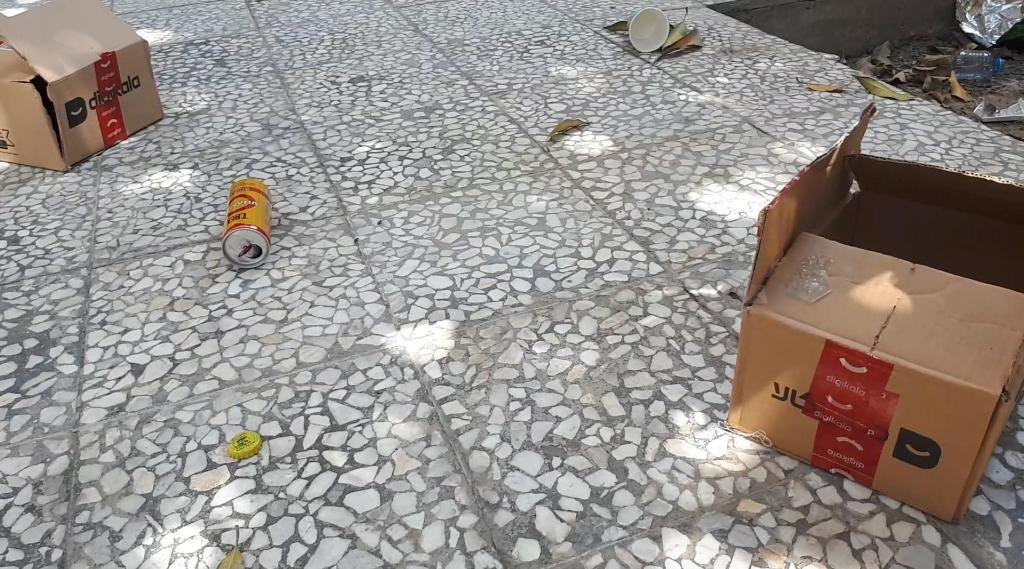garbage: (739, 96, 1024, 543), (1, 0, 173, 180), (214, 164, 302, 275), (221, 179, 272, 269), (951, 50, 1006, 79)
